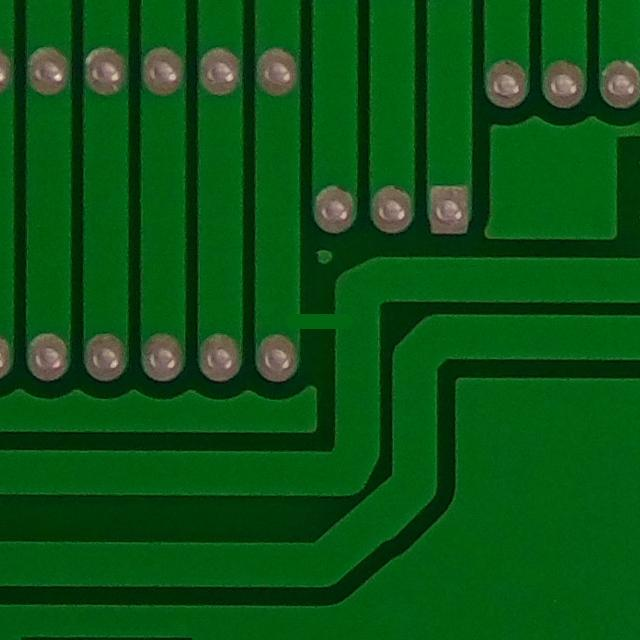short: (265, 263, 376, 378)
